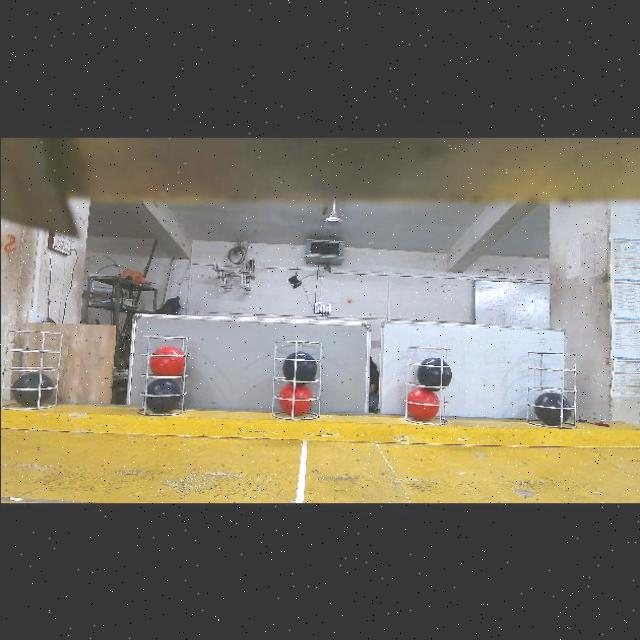P: (12, 371, 54, 406), (532, 391, 571, 425), (145, 376, 179, 412), (414, 358, 452, 390), (281, 349, 316, 382)
R: (406, 385, 437, 420), (278, 382, 311, 414), (149, 345, 183, 376)
S: (518, 340, 580, 430), (8, 327, 64, 403), (268, 339, 324, 413), (138, 332, 192, 408), (397, 342, 448, 418)
